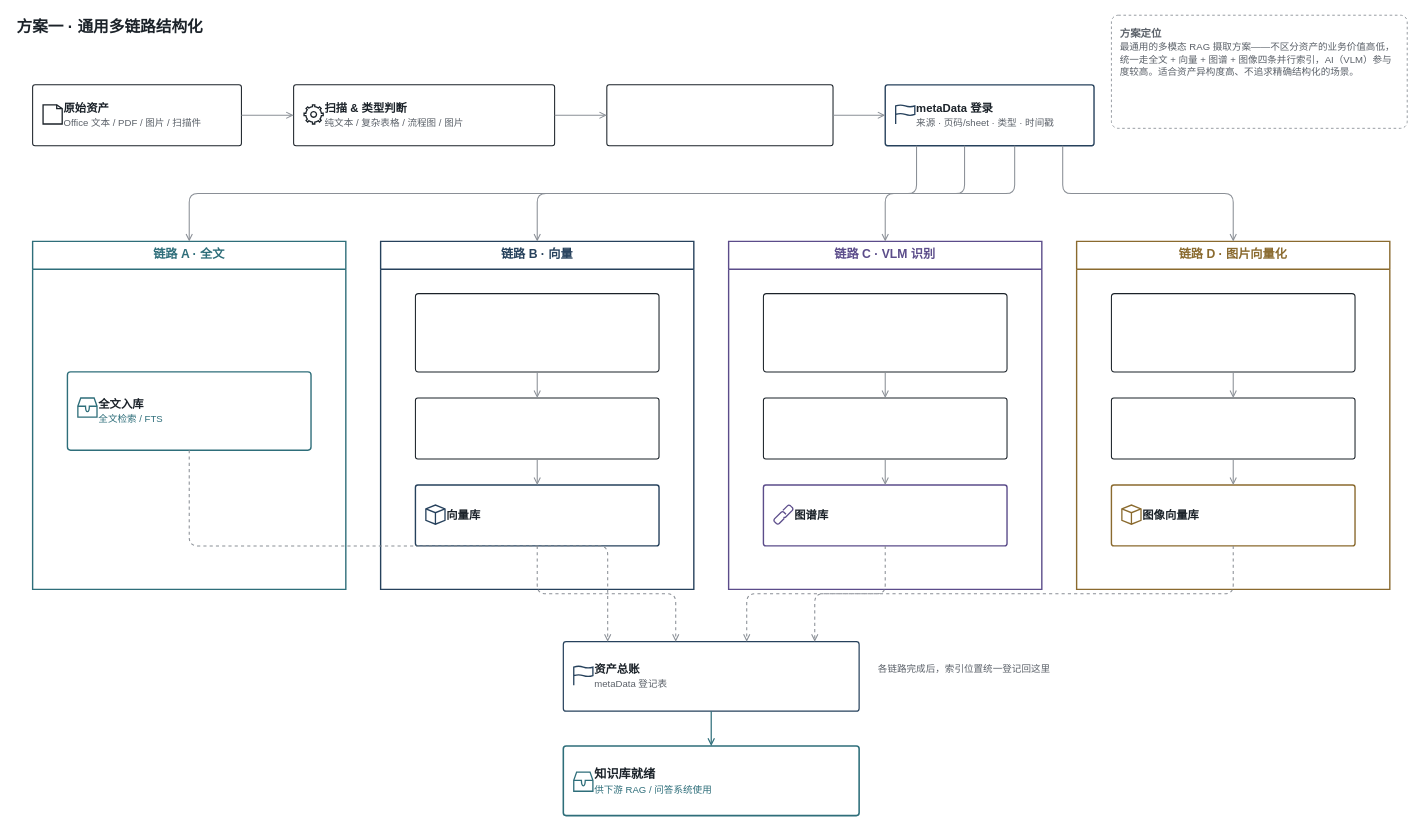
Some shapes in this 1422 by 832 pixel diagram are drawn without their labels. The shapes that lost their labels are listed below. From the top down, each one's centre as x and y in pixels, then its label:
(x=719, y=115): 文字抽取 + page/sheet → PNG 双份产出：文字 + 图像
(x=536, y=332): 父 block → 子 block → chunk 切分
(x=884, y=332): VLM 识别 （流程图 / 复杂表格 / 图片）
(x=1232, y=332): 所有图片 （含 page/sheet PNG）
(x=536, y=428): Embedding 向量化
(x=884, y=428): 转文字 → graph 化
(x=1232, y=428): 图像向量化 Image Embedding
